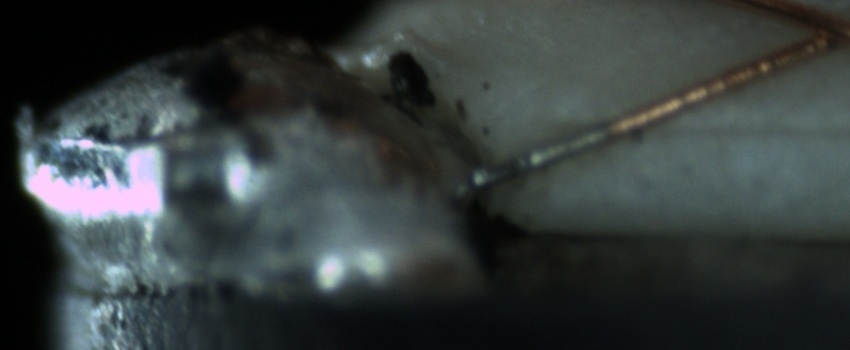CL: (779, 3, 848, 63)
DL: (632, 92, 850, 163)
TS: (466, 123, 612, 191)
TTCW: (462, 100, 661, 192)
